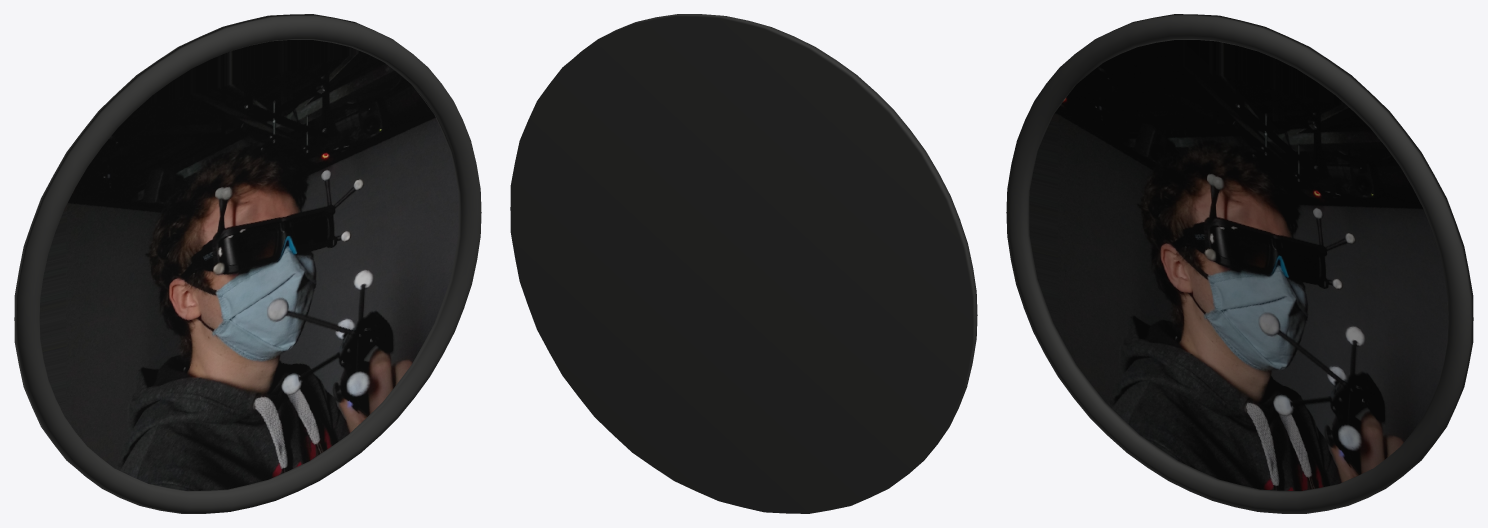
Rendered from portrait.glb.
3 views of the same model, side by side, from view 1: azimuth 30°, elevation 25°; view 2: azimuth 150°, elevation 25°; view 3: azimuth 330°, elevation 25° (orthographic).
Parts seen in each view (by area): view 1: Cube; view 2: Cube; view 3: Cube.
Boxes of the visible parts, bbox=[...] form: Cube: bbox=[14, 14, 481, 513]; Cube: bbox=[510, 14, 977, 513]; Cube: bbox=[1006, 14, 1473, 513].
Size of the model in its own units: 1.99 by 1.99 by 0.0714.
2 materials, 1 textured.
